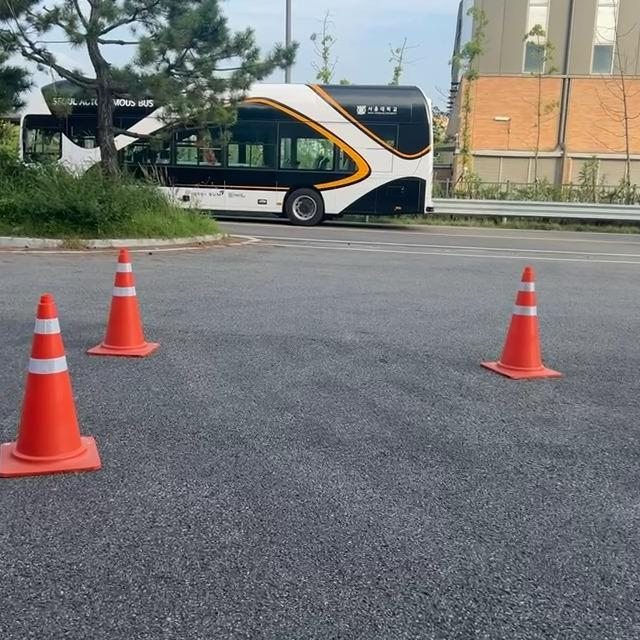fallen_object: (20, 279, 134, 501), (75, 249, 184, 386), (472, 266, 569, 384)
